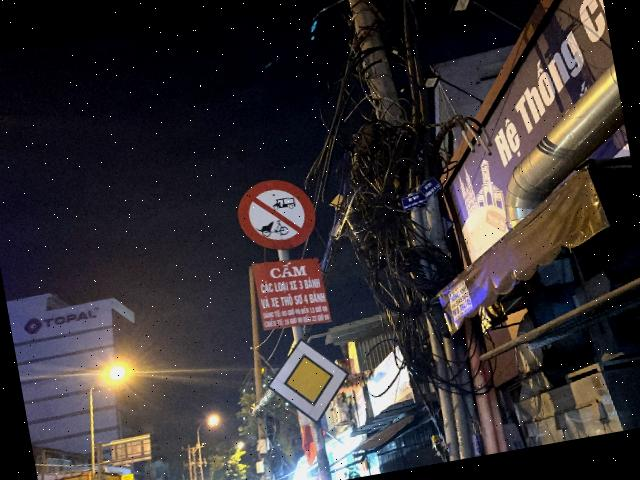bat-dau-duong-uu-tien: (259, 330, 357, 430)
cam-xe-3-banh-xe-tho-so-4-banh: (232, 172, 320, 255)
